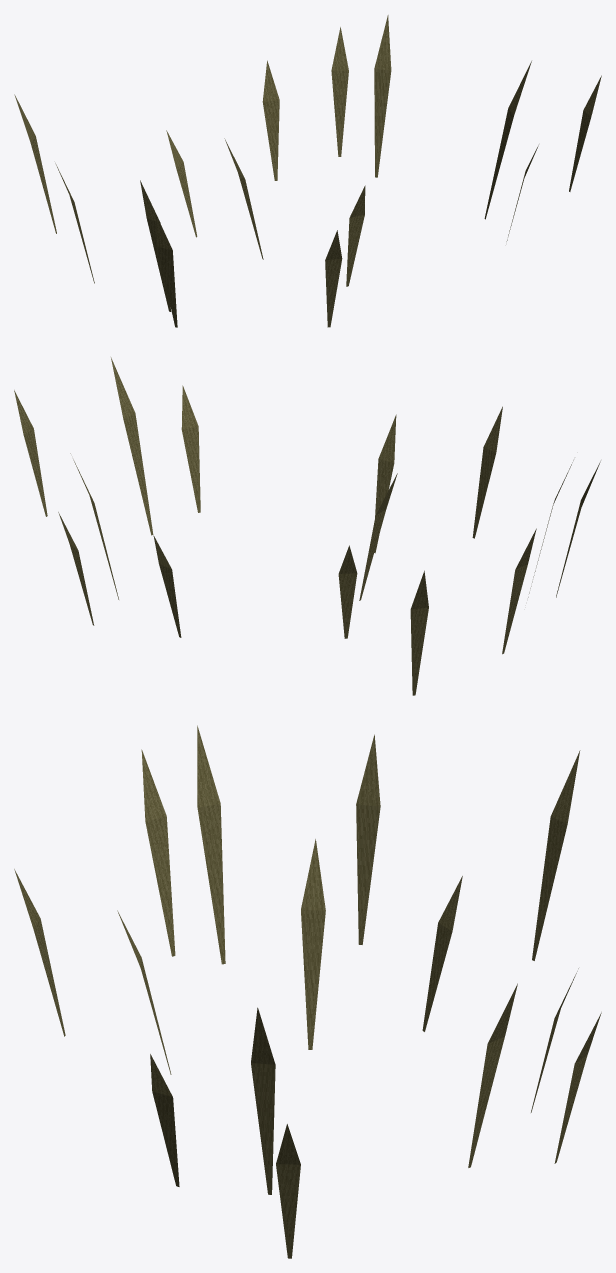
File: env_ground_01_grass_sparse.glb
The picture shows the model from 3 angles, top to bottom: view 1: azimuth 30°, elevation 25°; view 2: azimuth 150°, elevation 25°; view 3: azimuth 270°, elevation 25°; orthographic projection. The views are drawn at different scales.
Visible parts, largest first — view 1: foliage; view 2: foliage; view 3: foliage.
Part boxes in pixels (x1,y1,x2,y2): foliage: [14, 15, 601, 327]; foliage: [14, 357, 600, 695]; foliage: [14, 725, 601, 1258].
Bounding box in the file's own units: 0.7472 × 0.2109 × 0.5146.
1 material, 1 textured.
